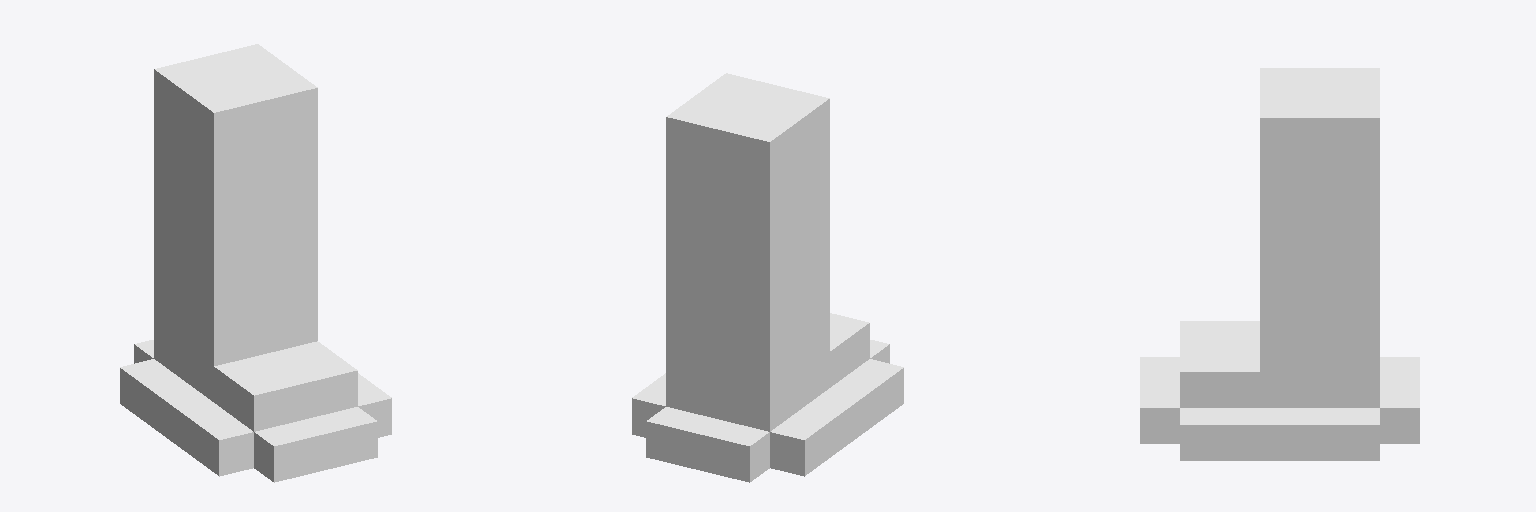
File: BombPieIzq.obj
3 views of the same model, side by side, from view 1: azimuth 30°, elevation 25°; view 2: azimuth 150°, elevation 25°; view 3: azimuth 270°, elevation 25° (orthographic).
Visible parts, largest first — view 1: bomberman.003; view 2: bomberman.003; view 3: bomberman.003.
Boxes of the visible parts, x1=… form: bomberman.003: x1=120, y1=44, x2=391, y2=482; bomberman.003: x1=632, y1=73, x2=903, y2=482; bomberman.003: x1=1140, y1=68, x2=1419, y2=460.
Bounding box in the file's own units: 0.5 × 0.9 × 0.7.